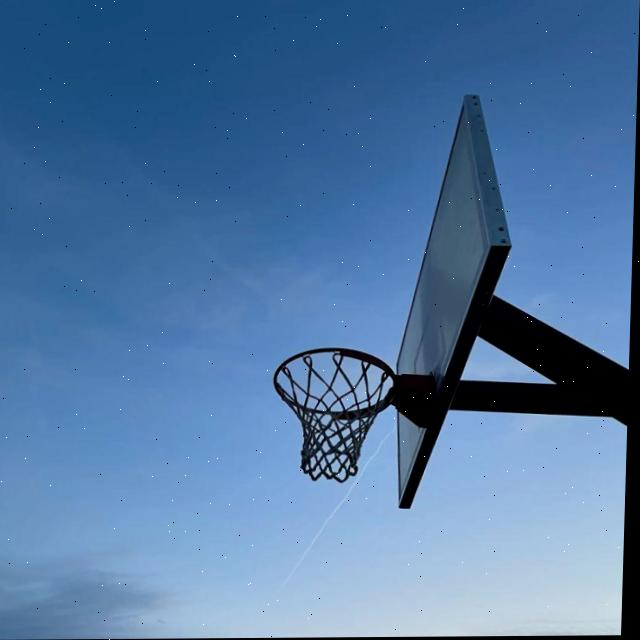hoop: (258, 349, 421, 497)
